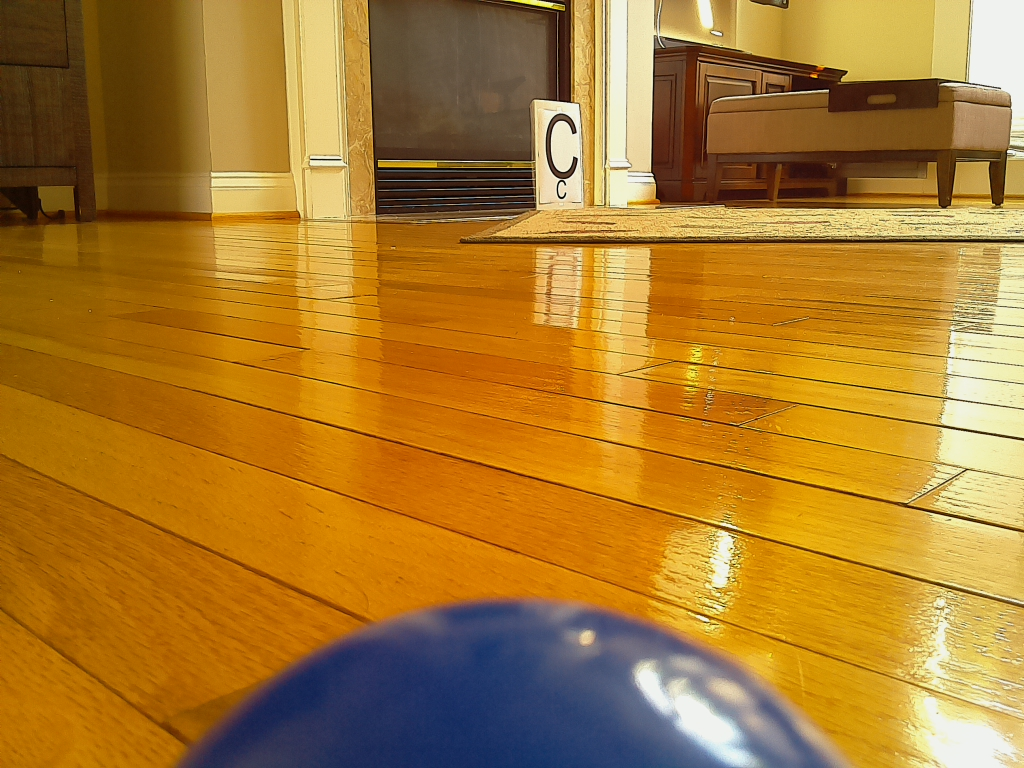letter: (546, 114, 578, 178)
